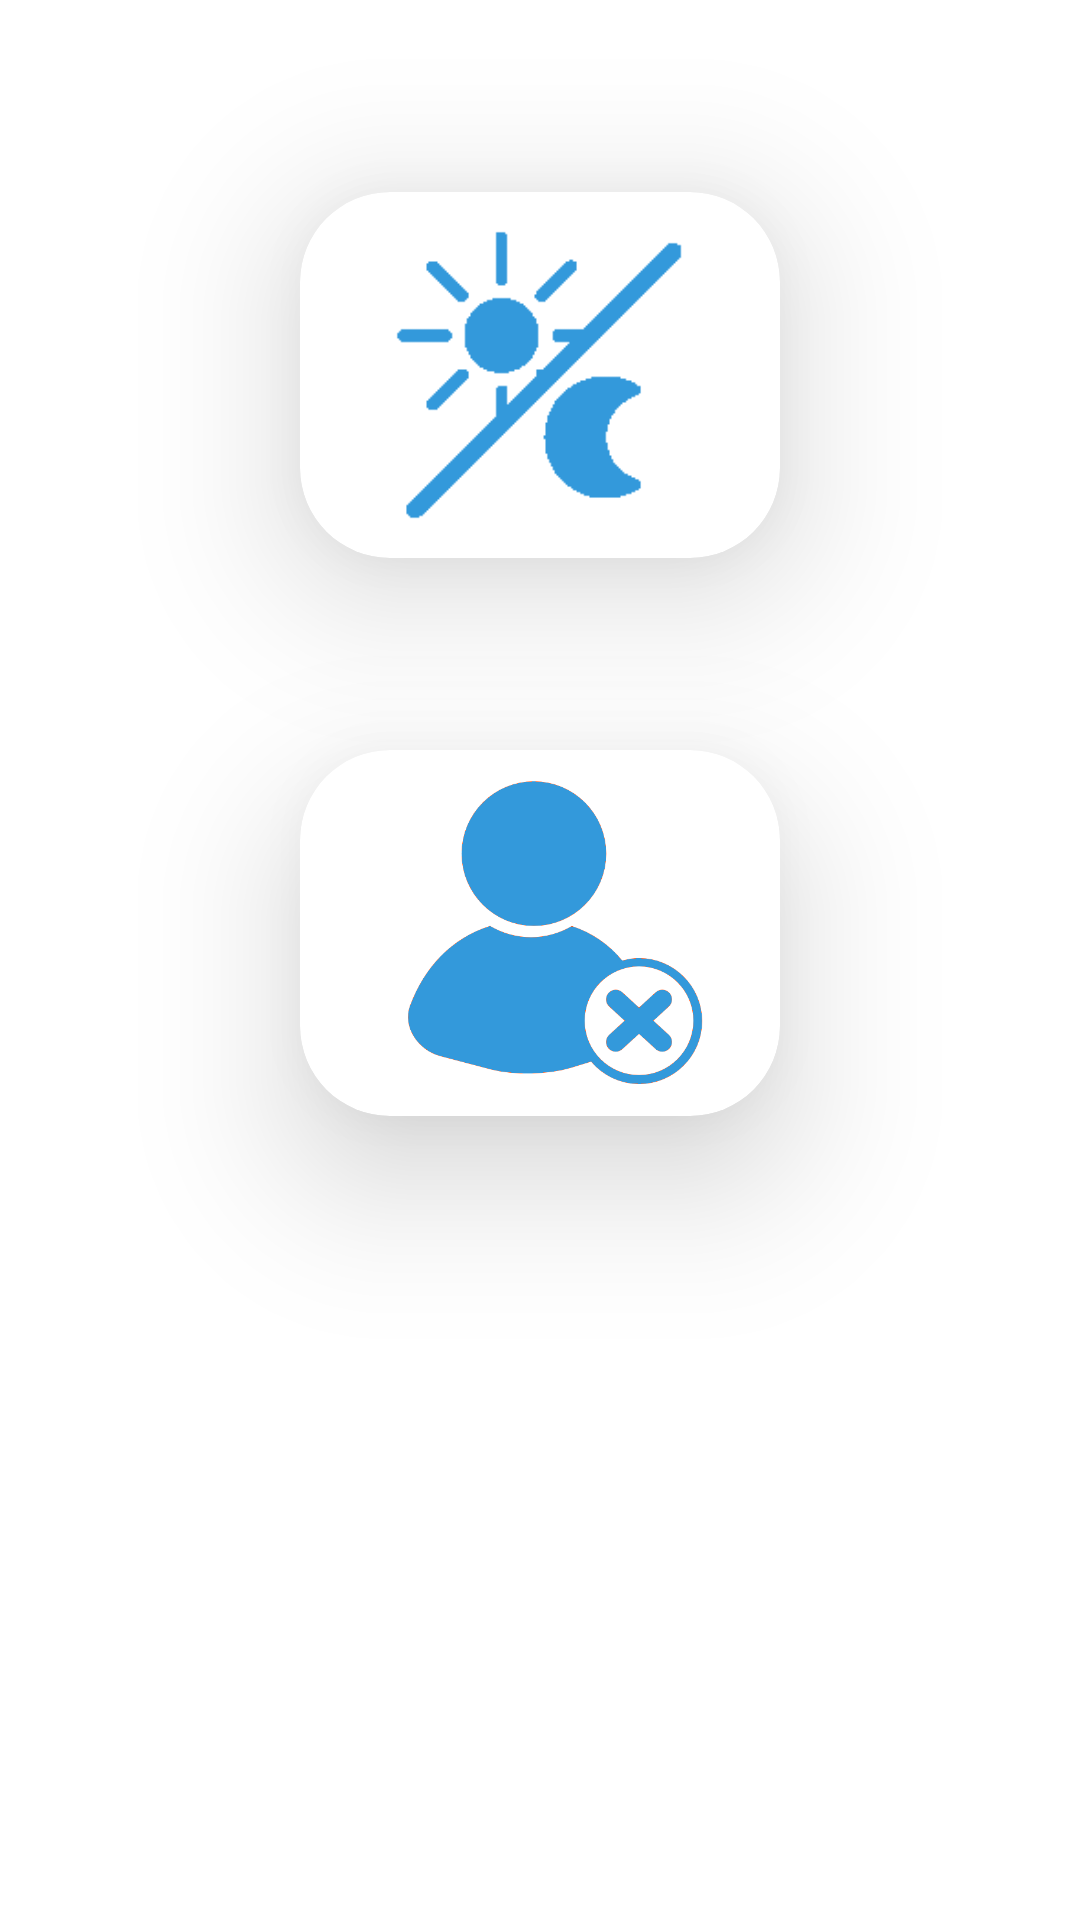

Screen size 1080x1920. Icon name, then its center in pixels as (x=x, y=y):
delete user: (x=555, y=932)
